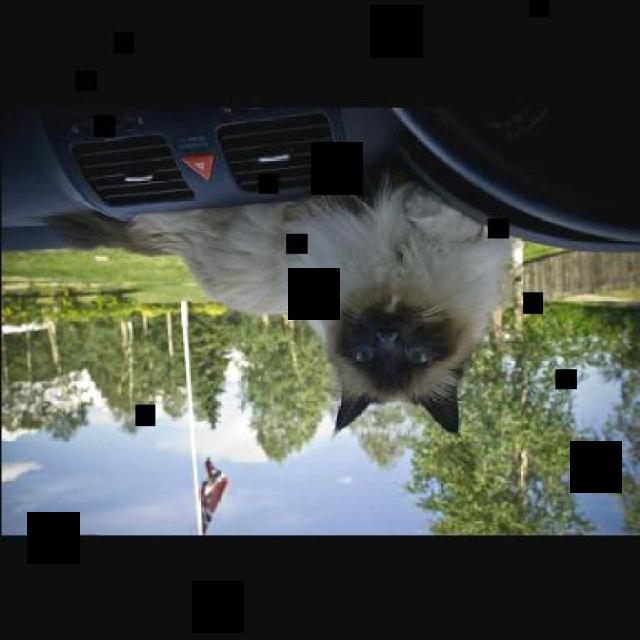unauthorized: (41, 169, 512, 437)
